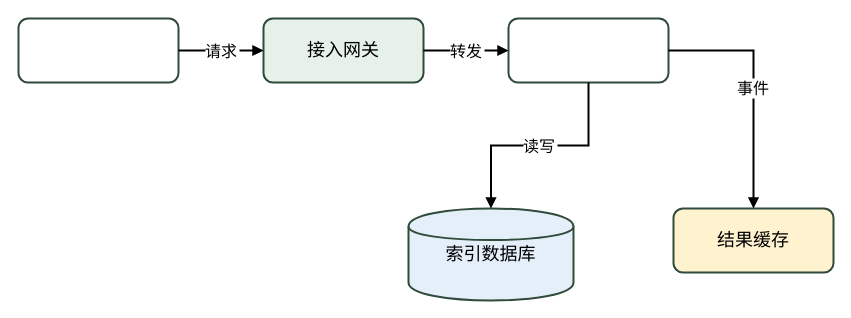
This 851x318 diagram has some shape labels left out. The shapes that lost their labels are listed below. From the top down, each one's centre as x and y in pixels, then its label:
At point (98, 50): "移动应用".
At point (588, 50): "搜索服务".
